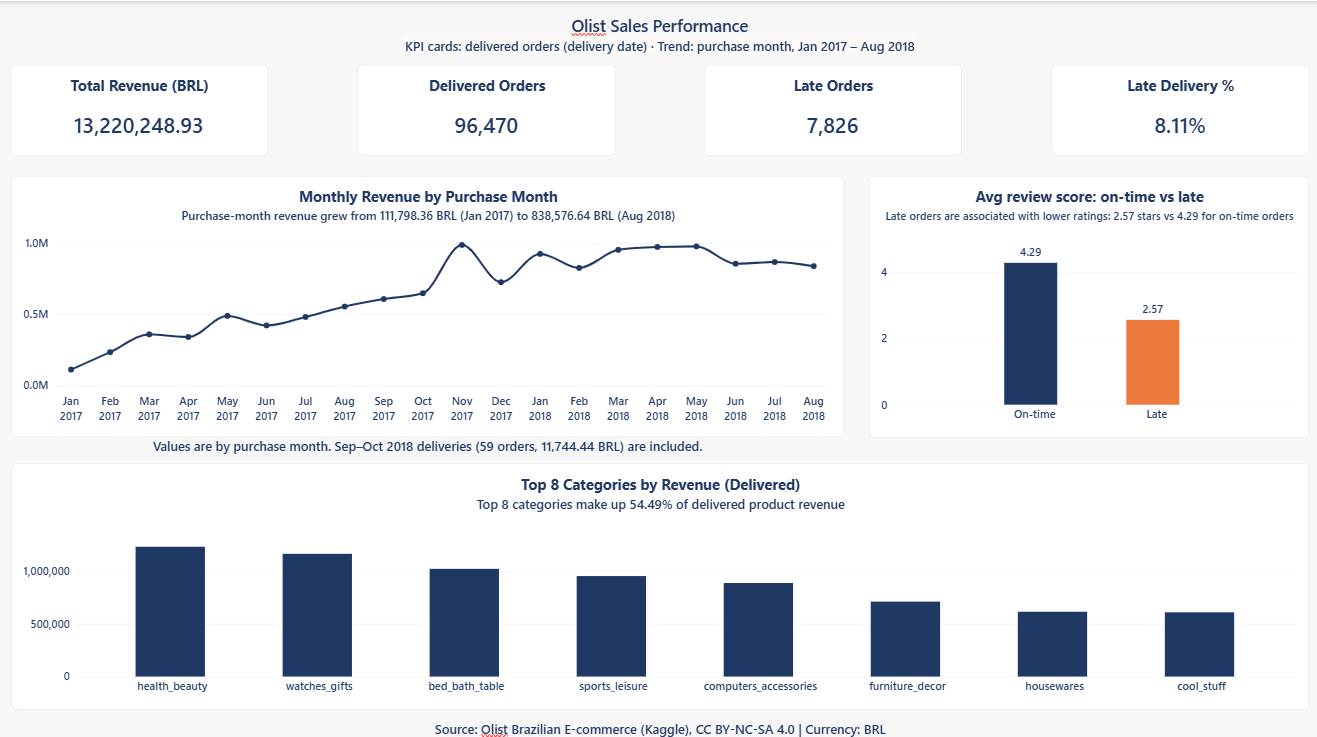

This screenshot's page, from the dashboard's own definition file:
{"tool":"powerbi","page":{"name":"Page 1","canvas":[1920,1080],"ordinal":0},"visuals":[{"type":"card","title":"Total Revenue (BRL)","fields":{"Values":["order_items.Total_Revenue"]},"box":[17.1,92.1,374.2,132.6],"z":0},{"type":"lineChart","title":"Monthly Revenue (Delivered Orders)","fields":{"Category":["Date.Month"],"Y":["order_items.Total_Revenue"]},"box":[17.9,253.6,1208.9,380.4],"z":1000},{"type":"actionButton","box":[0,0,100,40],"z":2000},{"type":"card","title":"Delivered Orders","fields":{"Values":["orders.Late%"]},"box":[520.9,92.4,374.2,132],"z":3000},{"type":"card","title":"Late Orders","fields":{"Values":["orders.Late Orders"]},"box":[1024.8,92.4,374.2,132],"z":4000},{"type":"card","title":"Late Delivery %","fields":{"Values":["orders.Late %"]},"box":[1528.6,92.4,374.2,132],"z":5000},{"type":"textbox","box":[0,19.6,1919.7,58.9],"z":6000},{"type":"columnChart","title":"Avg review score: on-time vs late","fields":{"Category":["orders.Is late"],"Y":["order_reviews.Review Average"]},"box":[1264.3,253.6,639.3,380.4],"z":7000},{"type":"clusteredColumnChart","title":"Top 8 Categories by Revenue (Delivered)","fields":{"Category":["product_category_name_translation.product_category_name_english"],"Y":["order_items.Total_Revenue"]},"box":[17.9,660.7,1885.7,407.1],"z":8000}]}

Visuals, with their boxes in screenshot pixels (x1, y1, x2, y2), scaled from the page's 1920x1080 canvas onto the 1317x737 screenshot:
"Total Revenue (BRL)" card: 12, 63, 268, 153
"Monthly Revenue (Delivered Orders)" lineChart: 12, 173, 842, 433
actionButton: 0, 0, 69, 27
"Delivered Orders" card: 357, 63, 614, 153
"Late Orders" card: 703, 63, 960, 153
"Late Delivery %" card: 1049, 63, 1305, 153
textbox: 0, 13, 1316, 54
"Avg review score: on-time vs late" columnChart: 867, 173, 1306, 433
"Top 8 Categories by Revenue (Delivered)" clusteredColumnChart: 12, 451, 1306, 729
